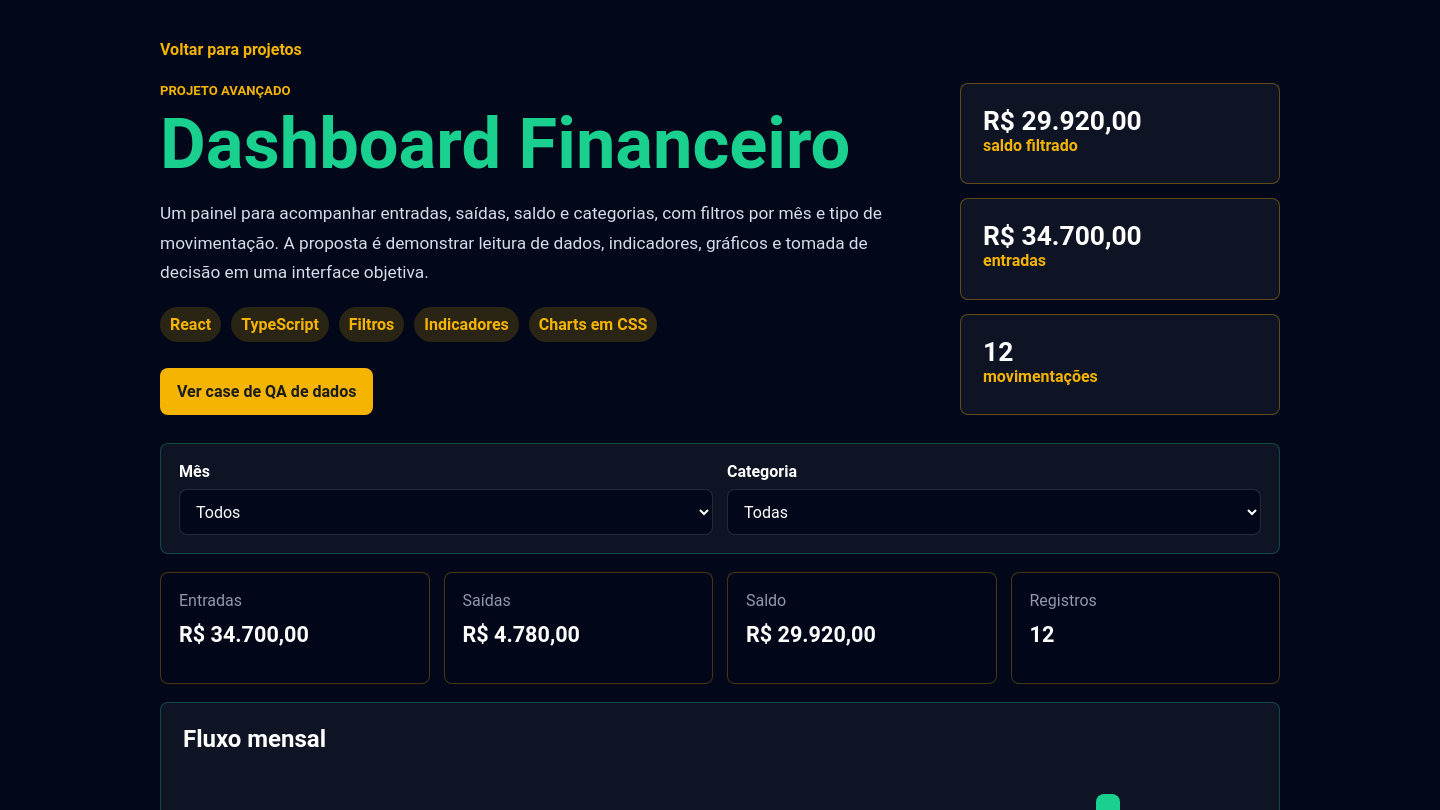
Scenario: Projeto Dashboard Financeiro › consolida a categoria Projeto em todos os meses
The image size is (1440, 810).
Select "Projeto" in the dropdown labelled "Categoria". click: (994, 512)
box: [727, 489, 1261, 535]
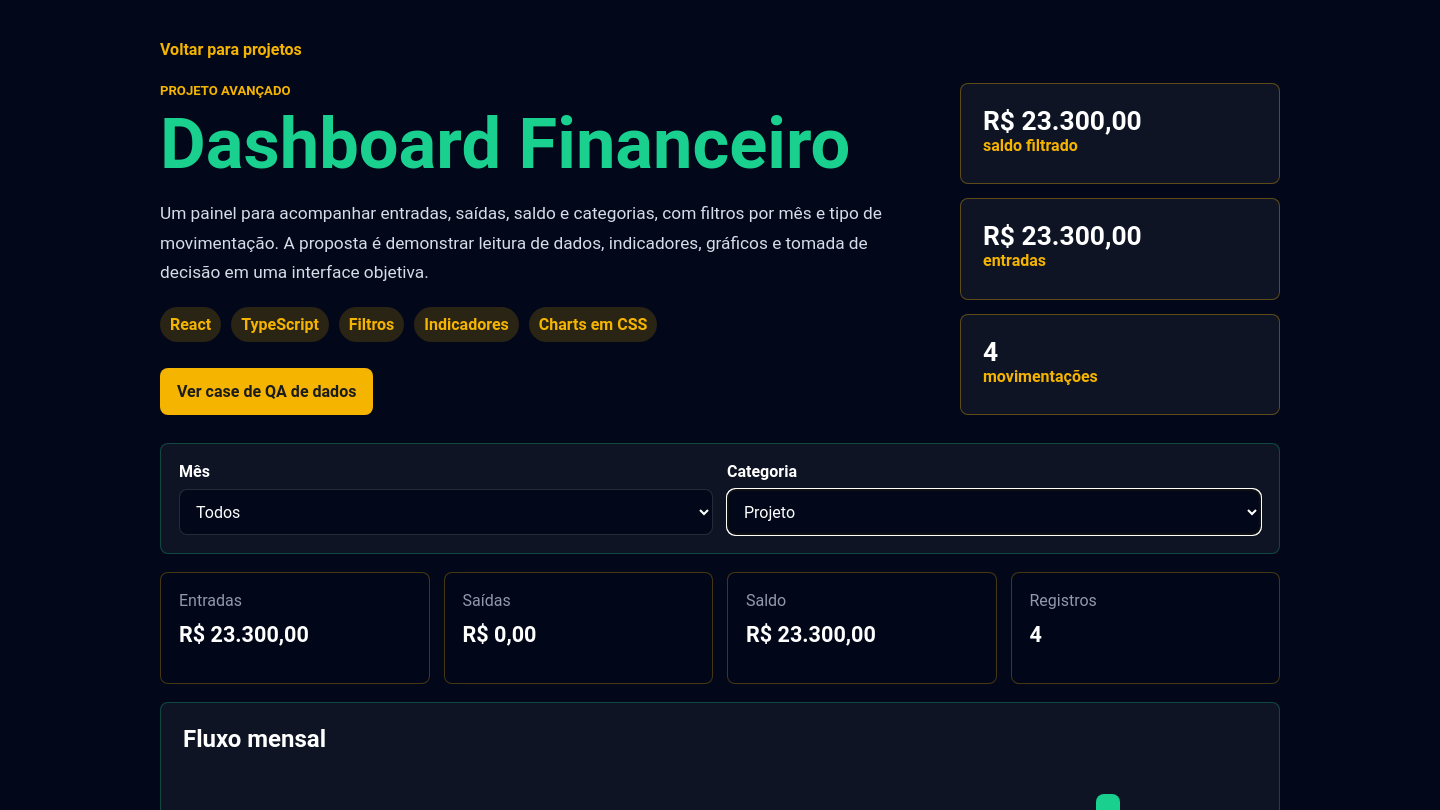
Expected: the text "R$ 23.300,00" is shown 2 times, [179, 622, 309, 647]; [746, 622, 876, 647]
Expected: the text "4" in the row of "R$ 0,00" is shown, [1030, 622, 1042, 647]
